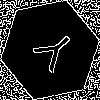Y: (25, 25, 79, 80)
